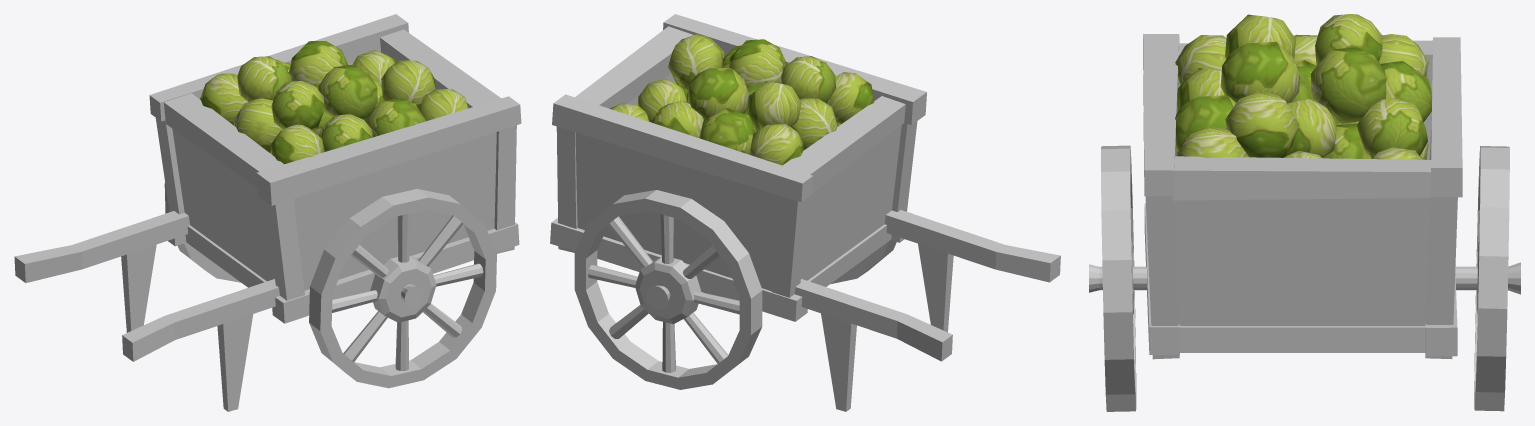
Rendered from VegetableCart2.fbx.
3 renders of one model, left to right at view 1: azimuth 30°, elevation 25°; view 2: azimuth 150°, elevation 25°; view 3: azimuth 270°, elevation 25°, orthographic. The views are drawn at different scales.
Visible parts, largest first — view 1: Cart.007, Cabbage.001, Wheel.013, Frame.074, Handle.013, Handle.014, Frame.075, Frame.073, Frame.082, Frame.076, Frame.079, Stand.014 (+5 smaller); view 2: Cart.007, Cabbage.001, Wheel.014, Frame.073, Handle.014, Handle.013, Frame.075, Frame.076, Frame.081, Frame.074, Frame.080, Stand.013 (+6 smaller); view 3: Cabbage.001, Cart.007, Frame.076, Wheel.013, Wheel.014, Frame.083, Frame.074, Frame.073, Frame.078, Frame.077, Axle.007, Frame.082 (+2 smaller).
Part boxes in pixels (x1,y1,x2,y2): Cart.007: (172,62,496,290); Cabbage.001: (200,41,468,164); Wheel.013: (309,189,496,388); Frame.074: (256,96,521,205); Handle.013: (14,211,189,282); Handle.014: (122,279,279,361); Frame.075: (164,93,283,187); Frame.073: (149,14,408,121); Frame.082: (272,222,519,323); Frame.076: (380,29,501,108); Frame.079: (265,199,304,300); Stand.014: (217,314,253,411); Cart.007: (575,73,901,291); Cabbage.001: (610,34,874,165); Wheel.014: (574,190,762,389); Frame.073: (552,94,813,202); Handle.014: (884,210,1060,282); Handle.013: (794,279,952,361); Frame.075: (782,96,905,192); Frame.076: (575,26,693,108); Frame.081: (550,218,807,321); Frame.074: (663,14,926,124); Frame.080: (771,196,807,297); Stand.013: (821,313,856,411); Cabbage.001: (1175,14,1431,159); Cart.007: (1173,82,1432,325); Frame.076: (1172,156,1431,200); Wheel.013: (1101,145,1136,411); Wheel.014: (1474,146,1509,411); Frame.083: (1180,326,1425,352); Frame.074: (1143,33,1179,196); Frame.073: (1431,37,1462,197); Frame.078: (1145,196,1179,359); Frame.077: (1425,197,1457,358); Axle.007: (1089,262,1520,294); Frame.082: (1144,203,1179,355).
Size of the model in its own units: 179 by 167 by 242.
